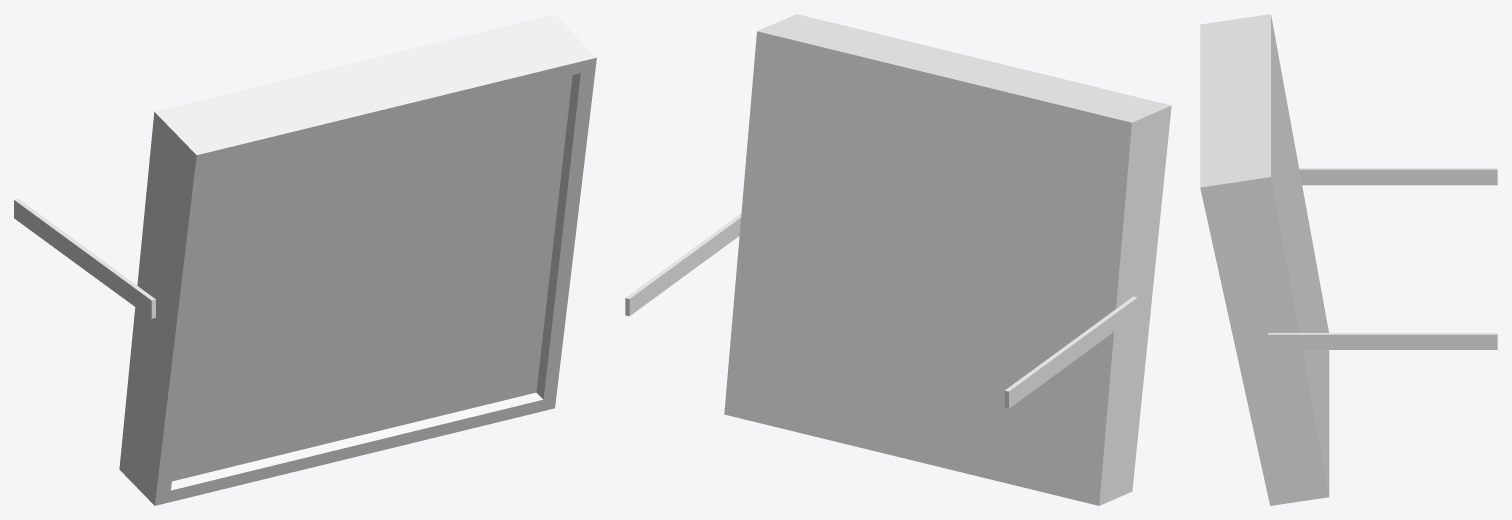
File: BR_Focus_1.glb
3 renders of one model, left to right at view 1: azimuth 30°, elevation 25°; view 2: azimuth 150°, elevation 25°; view 3: azimuth 270°, elevation 25°, orthographic. The views are drawn at different scales.
Parts seen in each view (by area): view 1: Focus light, Focus 1; view 2: Focus 1; view 3: Focus 1.
Boxes of the visible parts, left/top/right/bottom form: Focus light: left=172, top=75, right=572, bottom=481; Focus 1: left=14, top=14, right=596, bottom=505; Focus 1: left=625, top=14, right=1171, bottom=505; Focus 1: left=1200, top=14, right=1497, bottom=505.
Bounding box in the file's own units: 0.5172 × 0.4756 × 0.39.
Materials: 2 (1 with a texture image).
